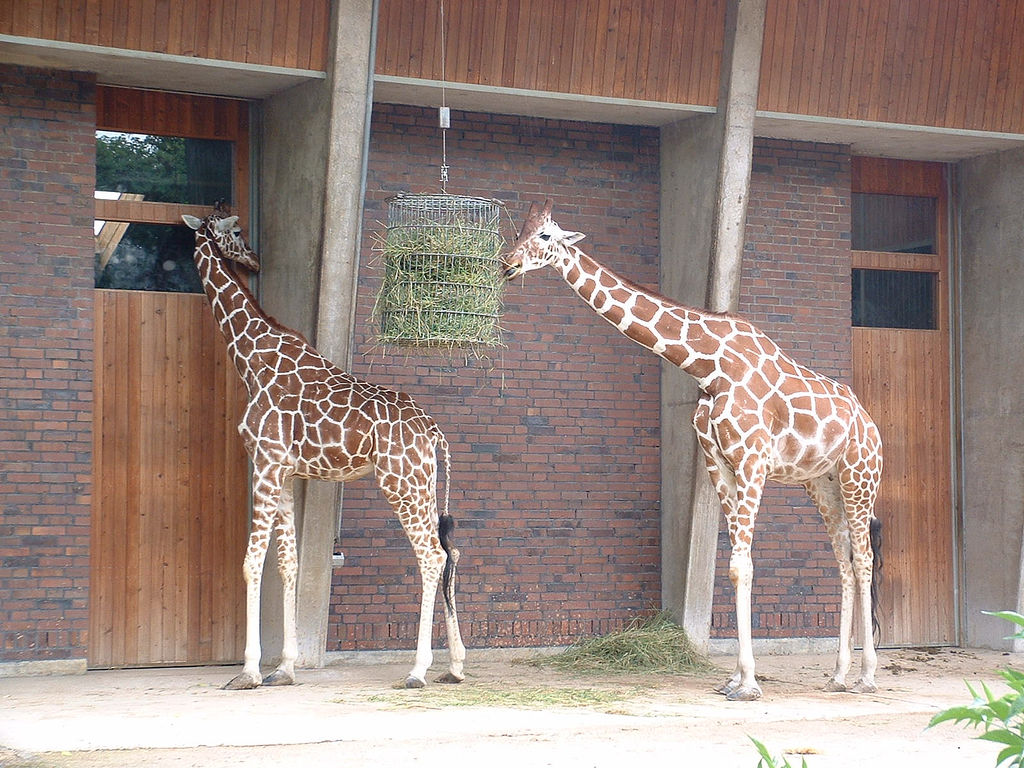giraffe: (499, 177, 932, 697), (168, 206, 509, 718)
